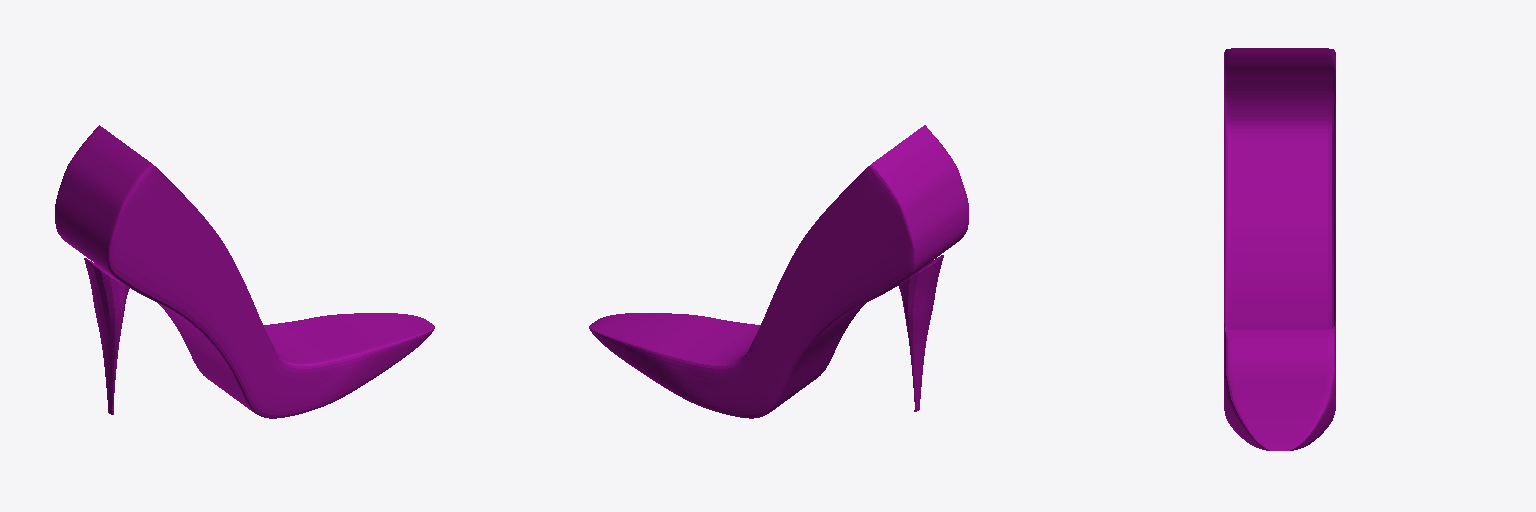
Rendered from heel.obj.
The picture shows the model from 3 angles: view 1: azimuth 30°, elevation 25°; view 2: azimuth 150°, elevation 25°; view 3: azimuth 270°, elevation 25°; orthographic projection.
Parts seen in each view (by area): view 1: Plane, Plane.001; view 2: Plane, Plane.001; view 3: Plane.
Boxes of the visible parts, x1=… form: Plane: x1=55, y1=125, x2=434, y2=418; Plane.001: x1=84, y1=258, x2=129, y2=414; Plane: x1=589, y1=125, x2=968, y2=418; Plane.001: x1=898, y1=255, x2=943, y2=411; Plane: x1=1224, y1=48, x2=1335, y2=450.
Bounding box in the file's own units: 5.42 × 4.26 × 1.51.